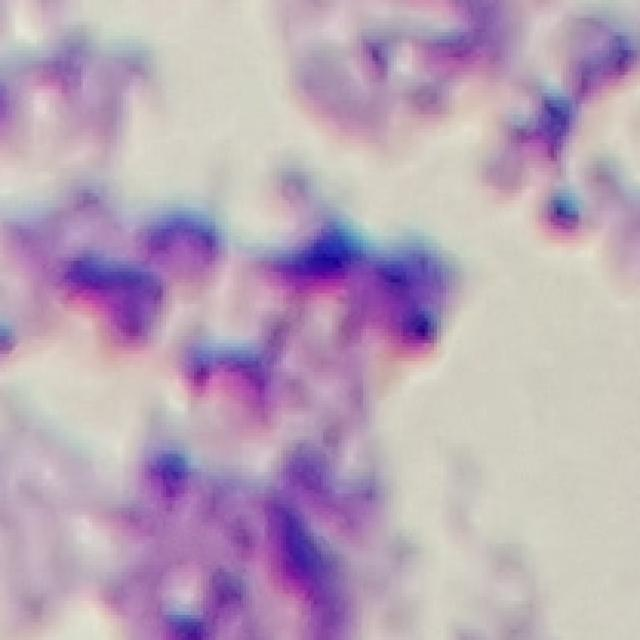non-sperm: (68, 208, 448, 412), (120, 440, 366, 640)
